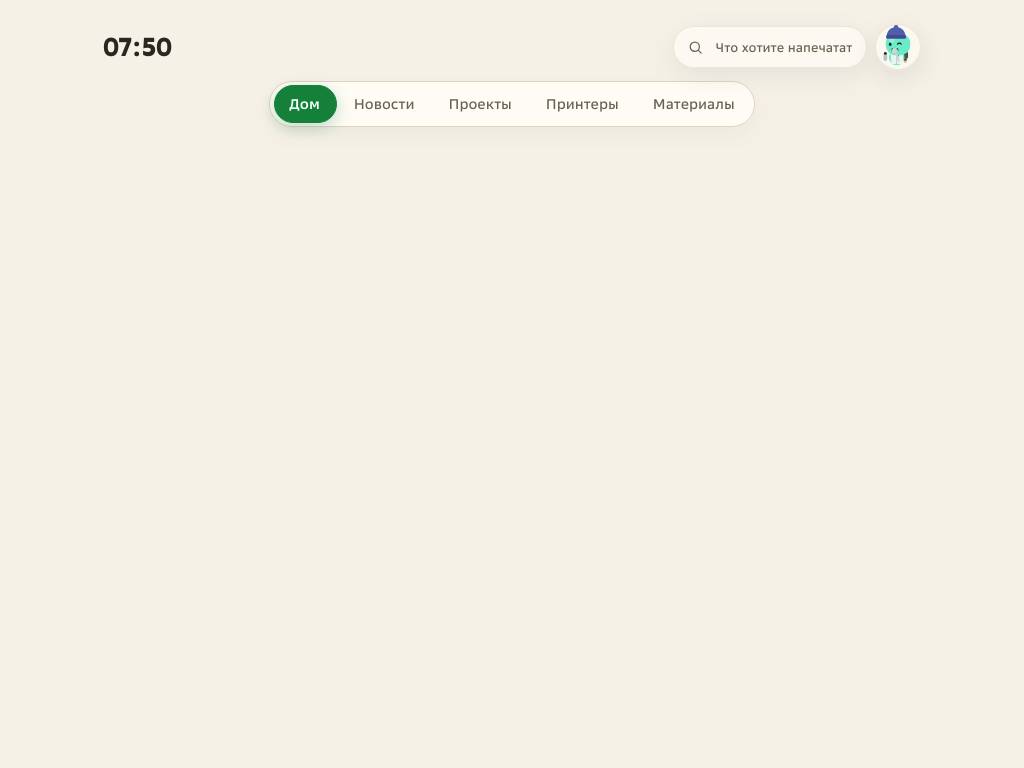
it: HomeHeader — четыре режима оболочки › аватар остаётся единственной кнопкой капсулы, а тема живёт внутри его меню
Click the button named "Профиль" at {"x": 898, "y": 47}, box [878,27,918,67]
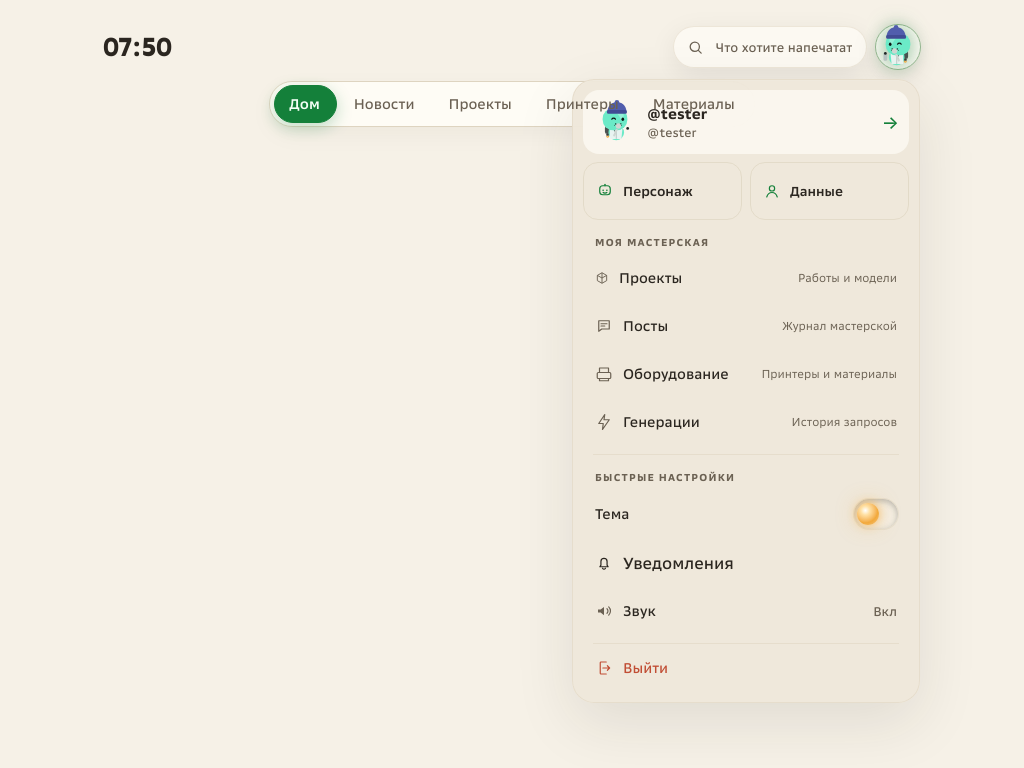
Expected: the heading "Уведомления" is shown, [595,553,734,573]
